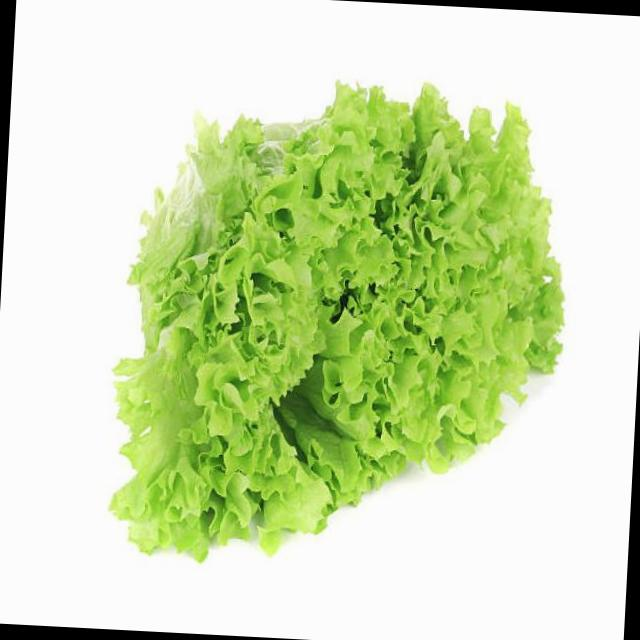Lettuce-Ready-to-Harvest: (105, 84, 564, 567)
